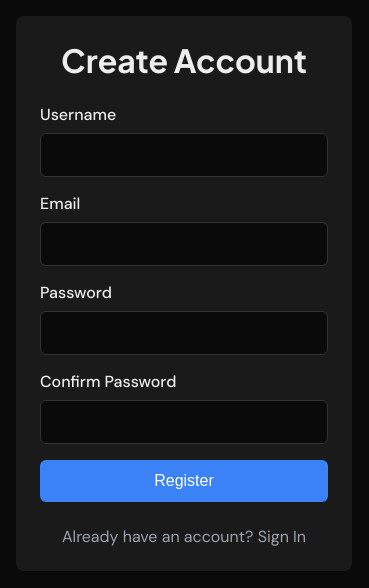
it: RegisterPage › shows success message after registration
The width and height of the screenshot is (369, 588).
Check: the heading "Create Account" is shown, box [40,40,328,80]
Type "testuser" into the field labelled "Username".
click(184, 155); type("testuser")  # box [40,133,328,177]
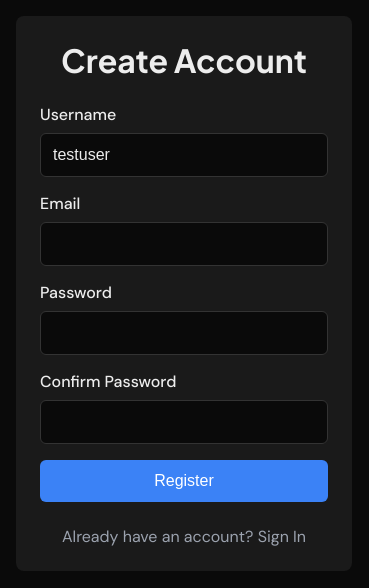
Type "test@example.com" into the field labelled "Email".
click(184, 244); type("test@example.com")  # box [40,222,328,266]
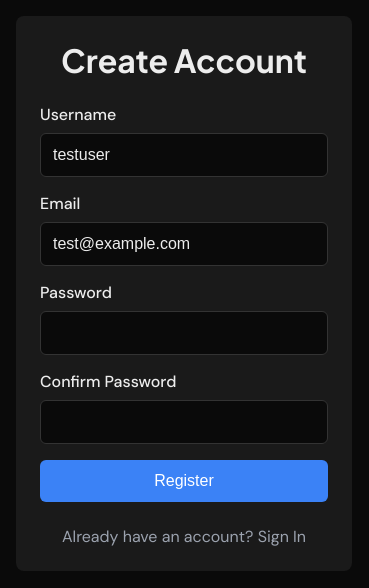
Type "password123" into the password field labelled "Password".
click(184, 333); type("password123")  # box [40,311,328,355]
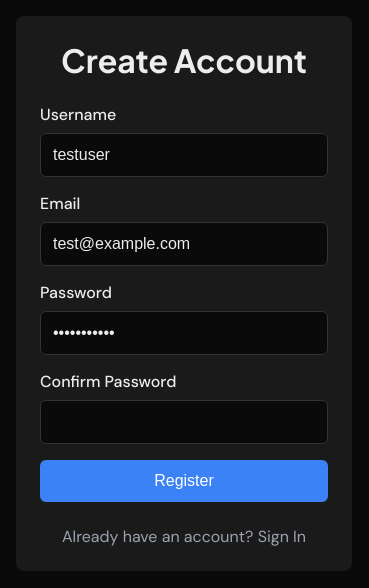
Type "password123" into the password field labelled "Confirm Password".
click(184, 422); type("password123")  # box [40,400,328,444]
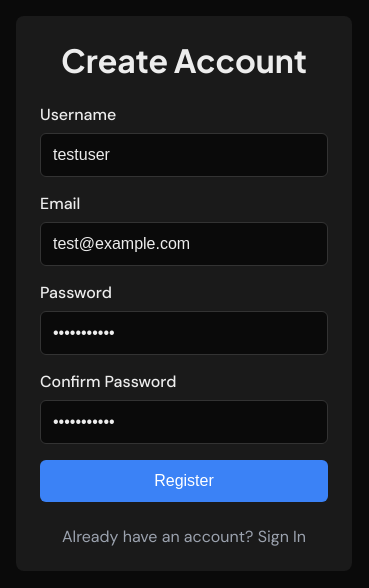
Submit the form from the button "Register", box [40,460,328,502]
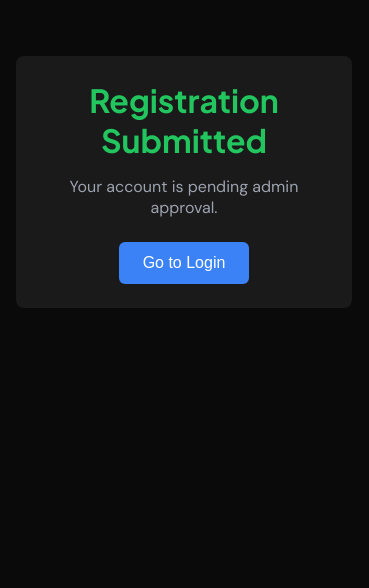
Check: the heading "Registration Submitted" is shown, box [89,80,279,160]
Check: the text "Your account is pending admin approval." is shown, box [70,176,298,218]
Check: the button "Go to Login" is shown, box [119,242,249,284]
